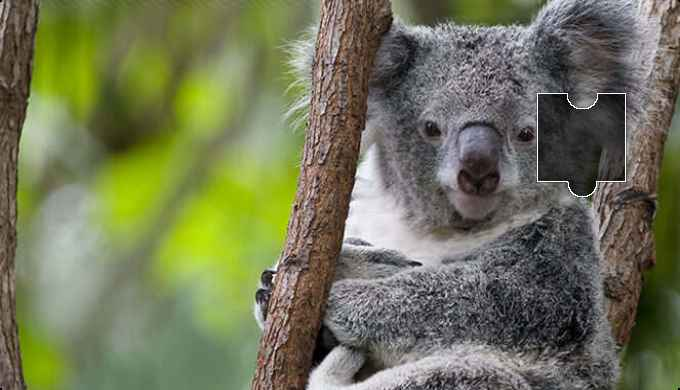gap: (536, 96, 627, 197)
